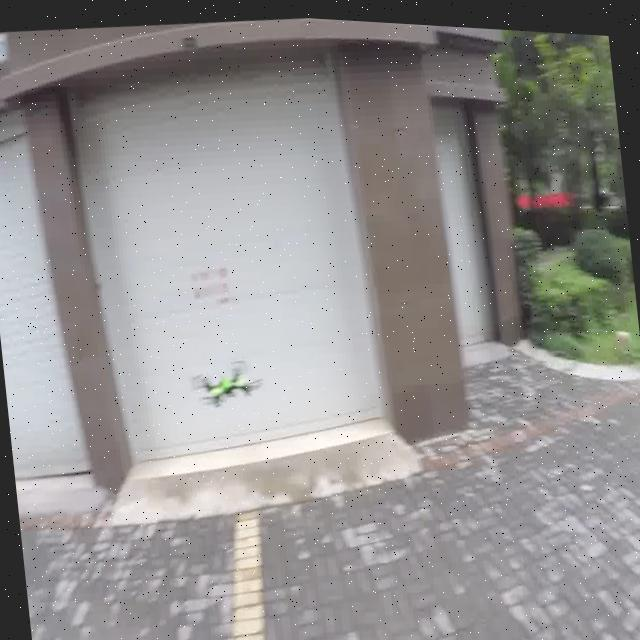drone: (185, 337, 264, 419)
